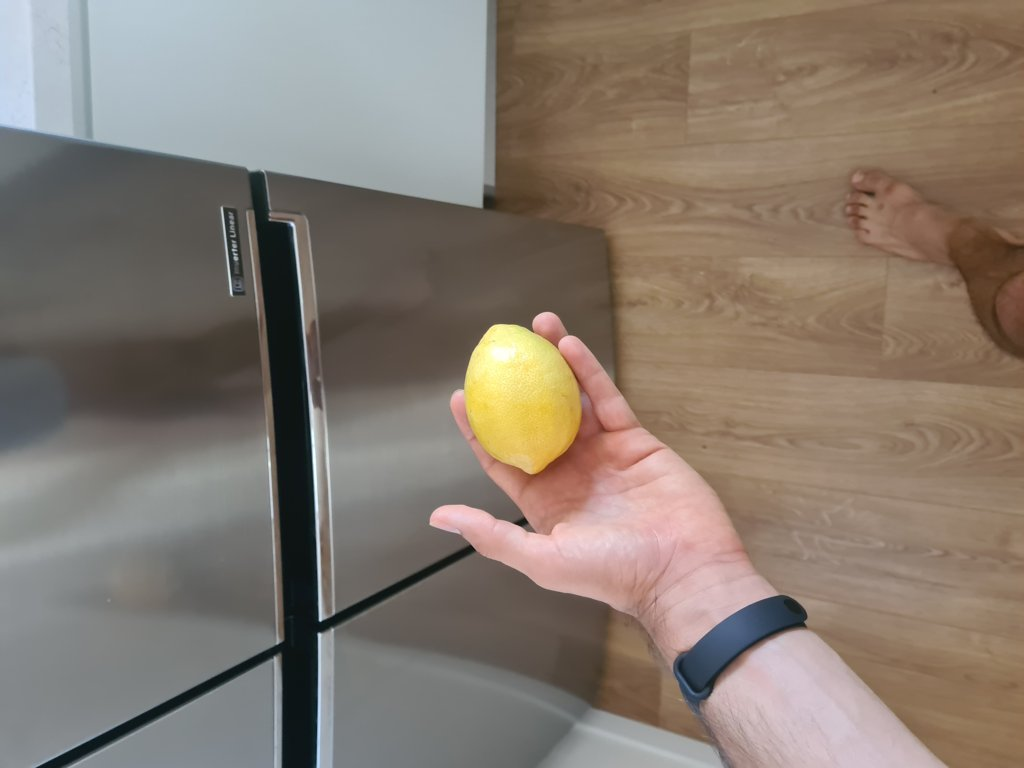lemon: (464, 312, 581, 469)
